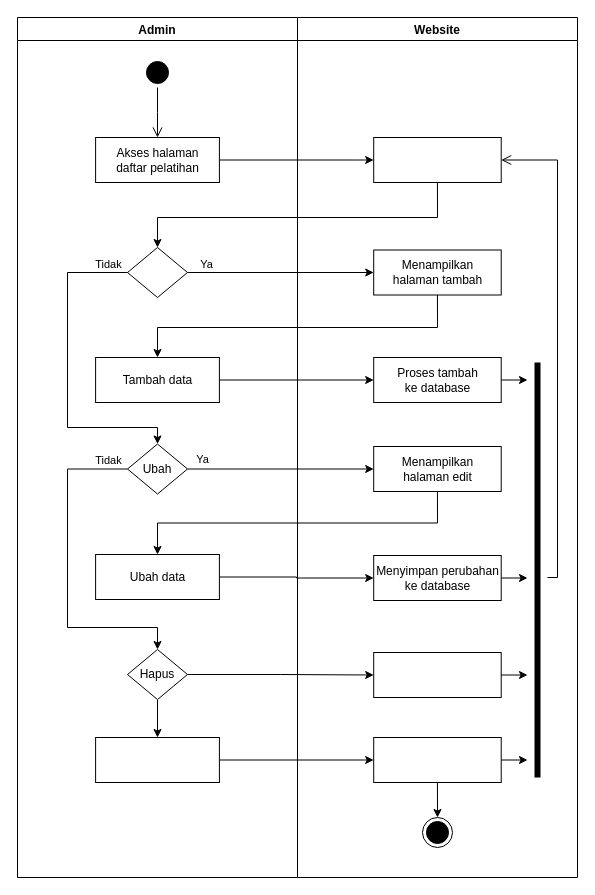
Image size: 595x895. Some labels were removed from this diagram. Here are the shapes that lost their labels. From the top down, the centre of each, then its label:
At [437,159]: "Menampilkan halaman daftar pelatihan".
At [157,272]: "Tambah".
At [437,675]: "Hapus data dari database".
At [157,759]: "Lihat detail data".
At [437,759]: "Menampilkan detail data".
